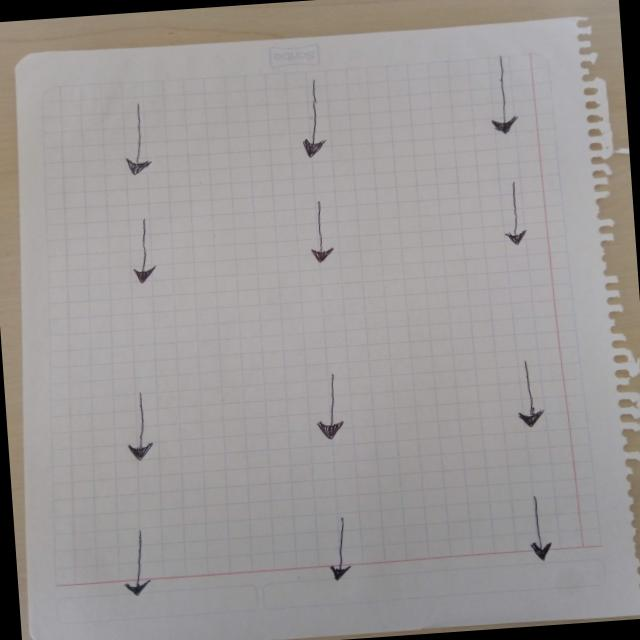arrow_line_down: (481, 50, 542, 138), (497, 355, 559, 435), (299, 369, 359, 443), (512, 489, 568, 567), (290, 69, 335, 164), (120, 212, 172, 288), (317, 507, 363, 591), (488, 182, 542, 252), (300, 195, 349, 272), (114, 524, 161, 604), (118, 95, 159, 184), (120, 388, 165, 466)
